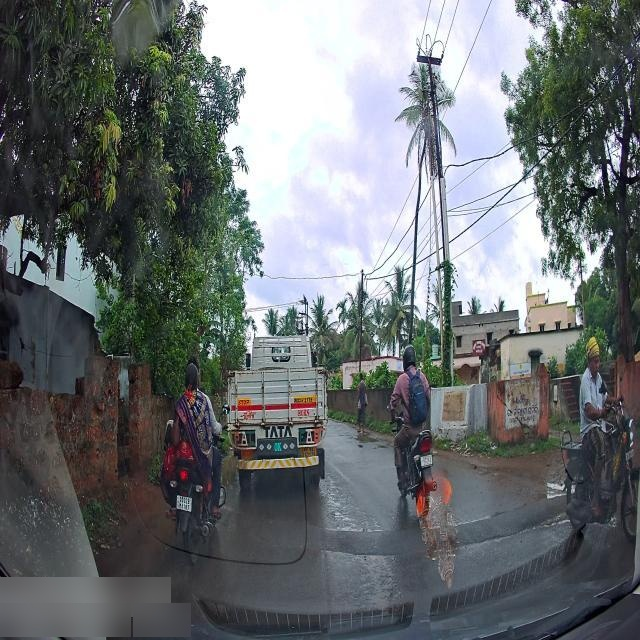pothole: (362, 556, 393, 609), (330, 518, 380, 538), (544, 473, 566, 501), (327, 497, 348, 515), (317, 481, 338, 499), (354, 432, 374, 445)
